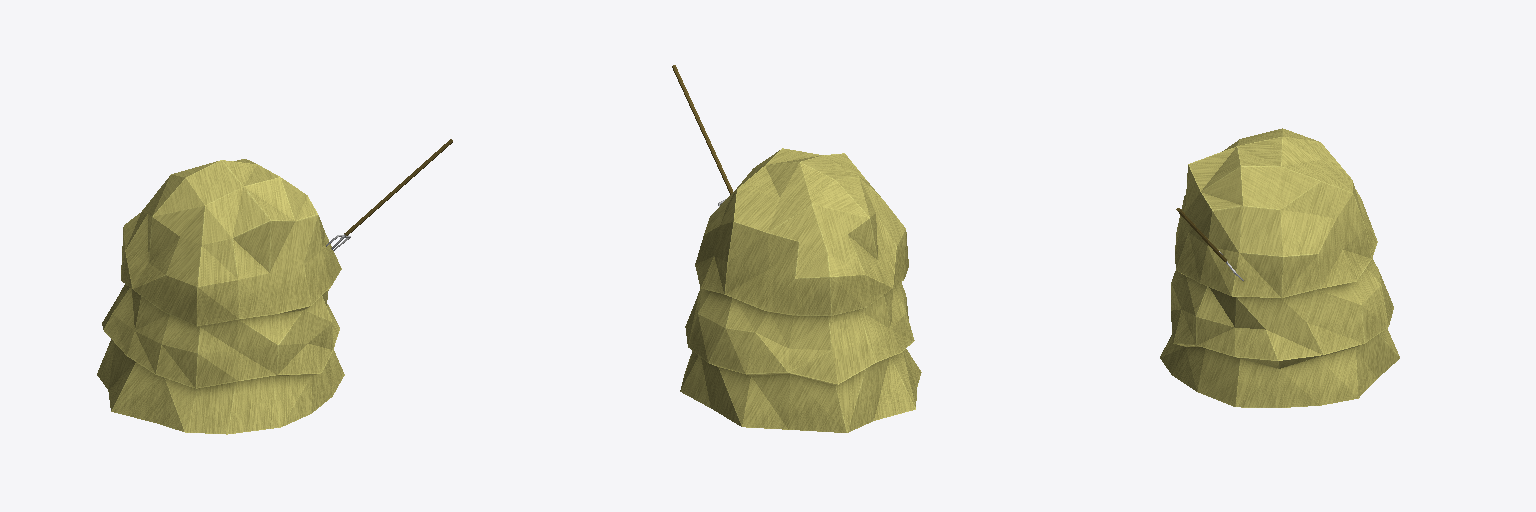
3 views of the same model, side by side, from view 1: azimuth 30°, elevation 25°; view 2: azimuth 150°, elevation 25°; view 3: azimuth 270°, elevation 25° (orthographic).
Visible parts, largest first — view 1: Haystack_mesh; view 2: Haystack_mesh; view 3: Haystack_mesh.
Boxes of the visible parts, box(x1,y1,x2,y2) form: Haystack_mesh: box(97, 139, 452, 434); Haystack_mesh: box(672, 65, 921, 432); Haystack_mesh: box(1160, 128, 1399, 407).
Size of the model in its own units: 11.59 by 8.98 by 8.25.
1 materials, 1 textured.